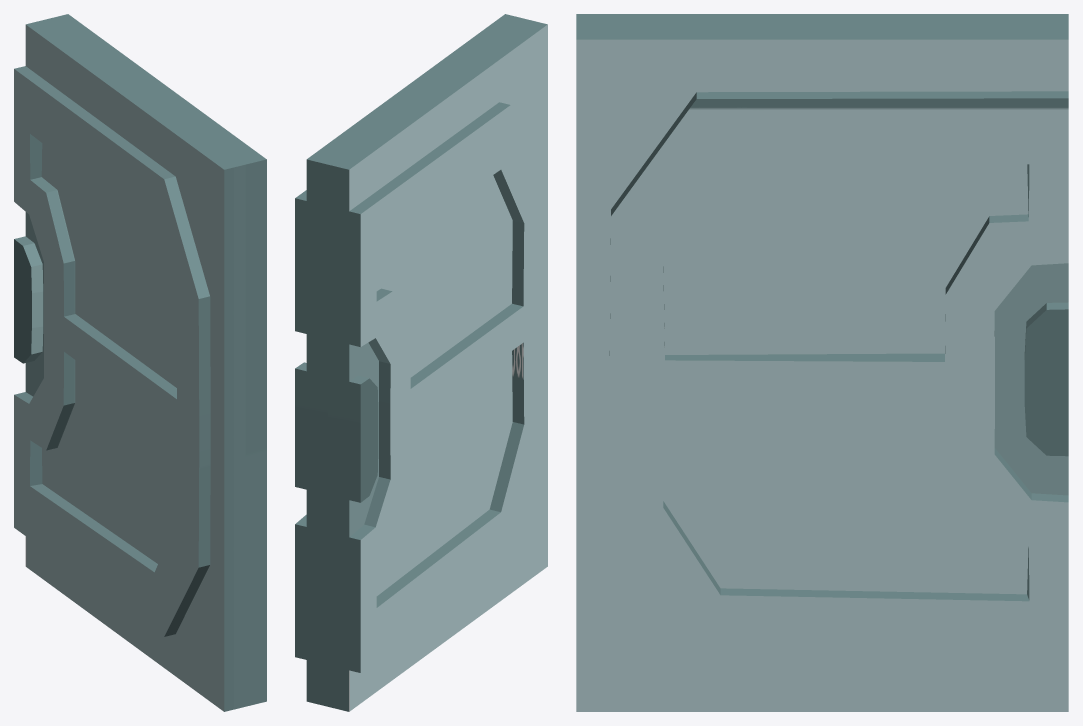
File: Door.glb
The picture shows the model from 3 angles, left to right: view 1: azimuth 30°, elevation 25°; view 2: azimuth 150°, elevation 25°; view 3: azimuth 270°, elevation 25°; orthographic projection. The views are drawn at different scales.
Parts seen in each view (by area): view 1: Cube; view 2: Cube; view 3: Cube.
Part boxes in pixels (x1=…): Cube: x1=14, y1=14, x2=266, y2=711; Cube: x1=295, y1=14, x2=547, y2=711; Cube: x1=576, y1=14, x2=1068, y2=711.
Bounding box in the file's own units: 0.381 × 3.01 × 2.
1 material, 1 textured.
